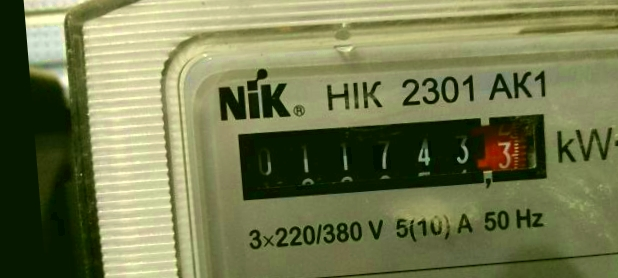0: (252, 142, 274, 179)
1: (335, 136, 353, 171), (298, 140, 311, 173)
3: (449, 130, 471, 166), (494, 138, 514, 173)
4: (412, 133, 432, 168)
7: (373, 135, 394, 170)
screen: (221, 96, 562, 216)
